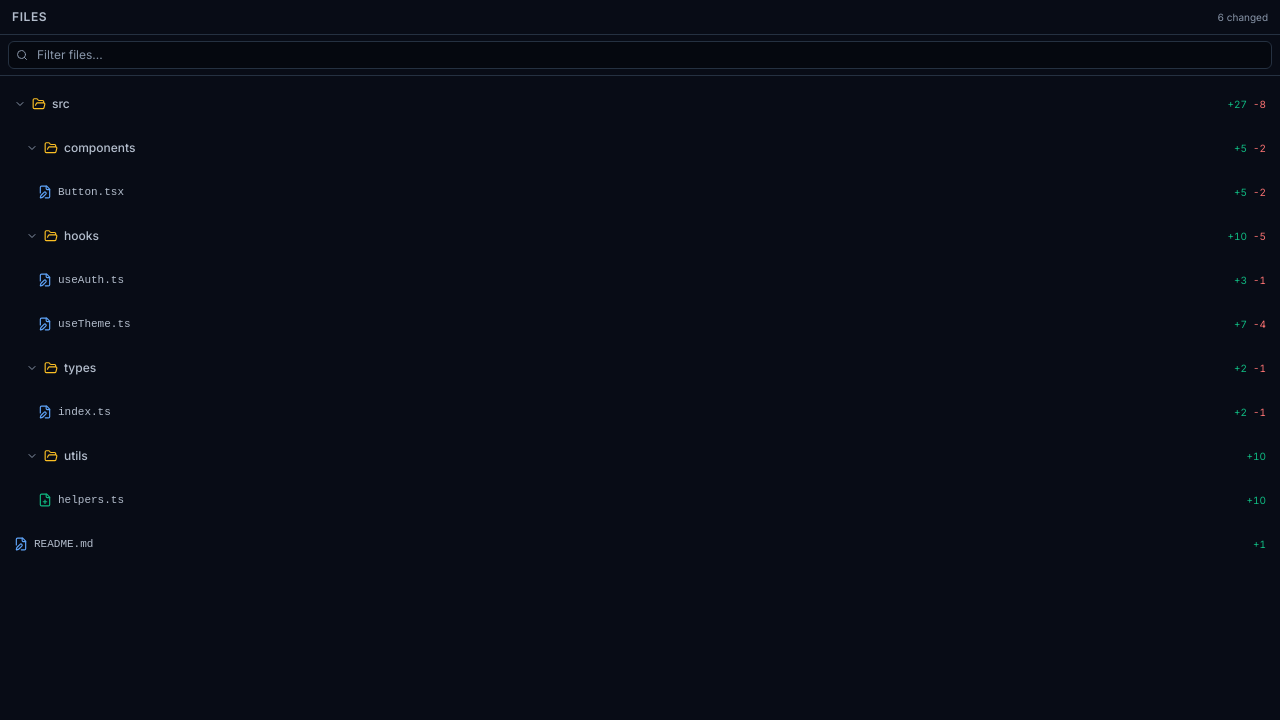
Scenario: FileTree › Search Filter › should filter files by path when typing in search
Type "hook" into the field with placeholder "Filter files..." at (640, 55), box [8, 41, 1272, 69]
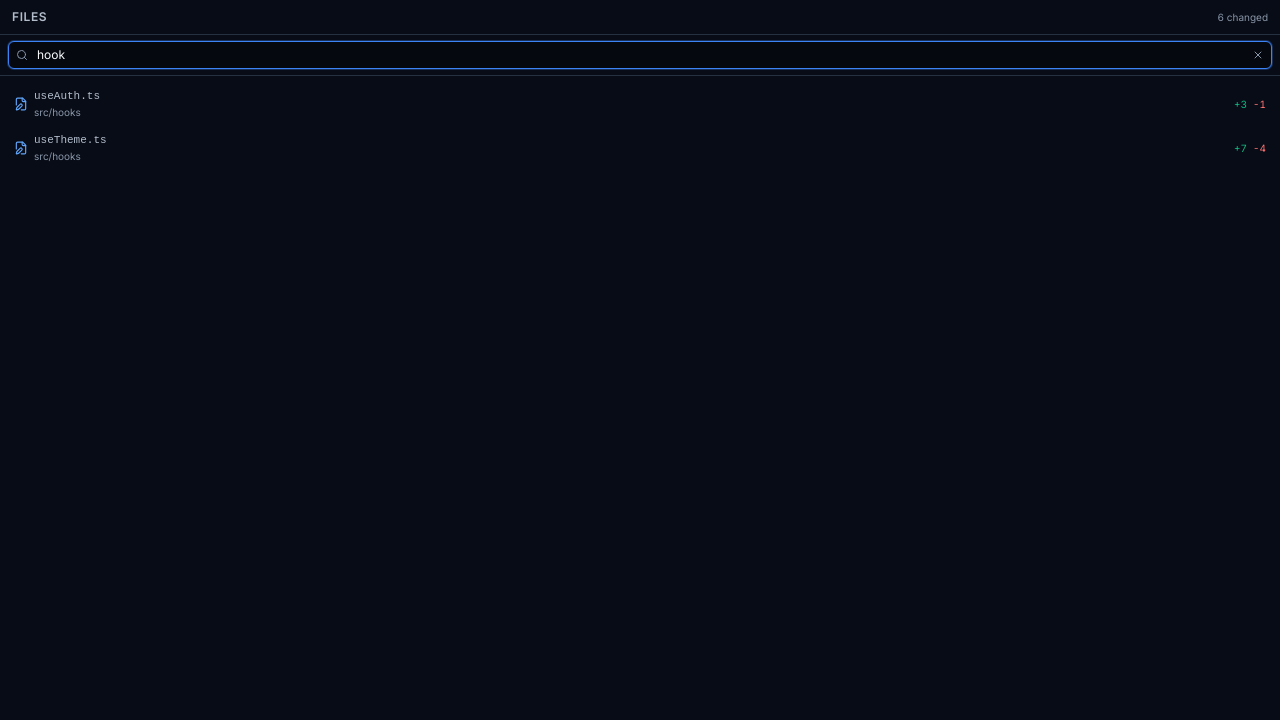
Expected: the text "useAuth.ts" is shown, [34, 90, 100, 102]
Result: the button "Button.tsx" is gone
Result: the button "helpers.ts" is gone
